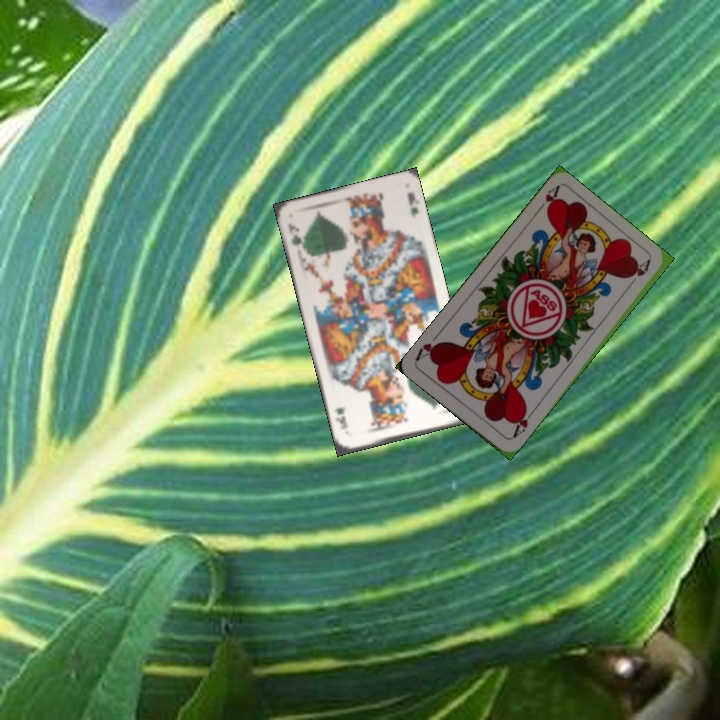GK: (284, 219, 308, 253)
HA: (507, 403, 537, 441), (531, 183, 562, 217)
